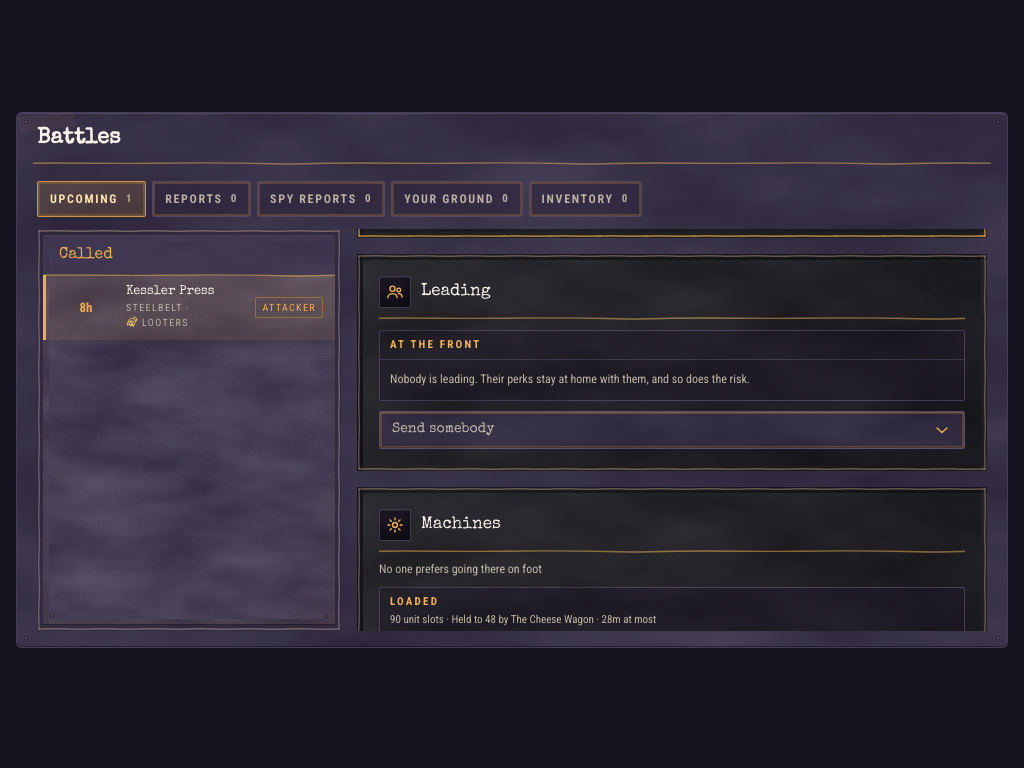
the officer picker › quotes each officer their own road beside their sheet
The image size is (1024, 768).
(page scrolled)
Click the dropdown with test id "lead-officer-picker".
click(443, 429)  # box [379,411,965,449]
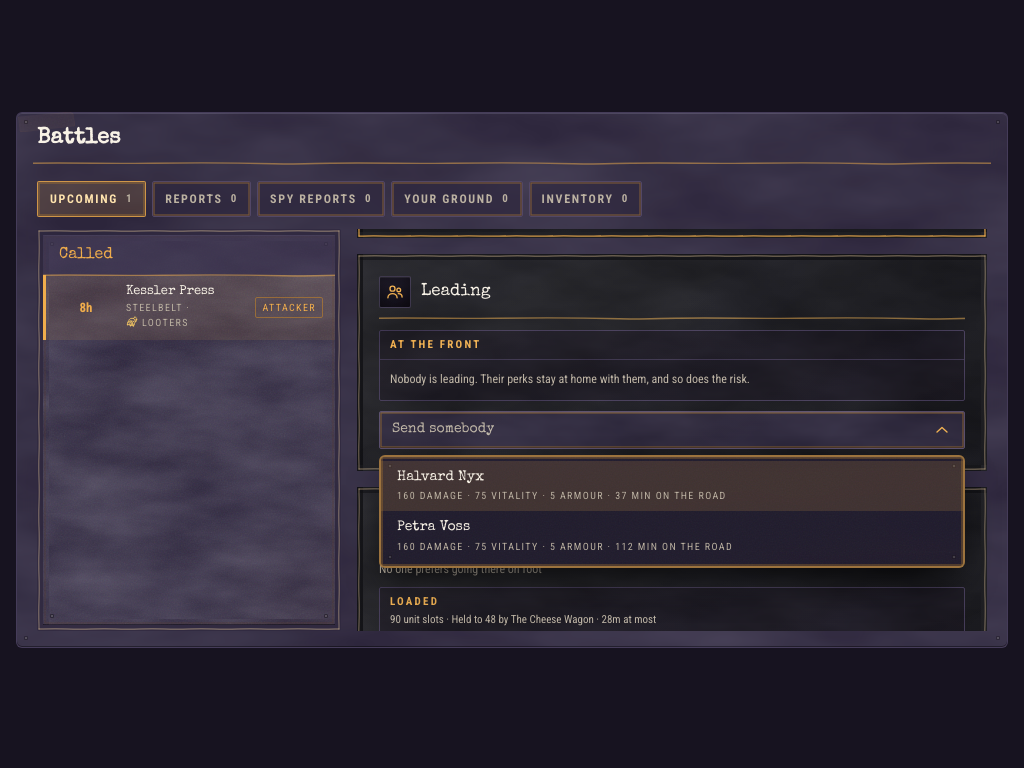
Expected: the option that starts with "Halvard Nyx" does not show "112 min", [381,461,963,511]
Expected: the option that starts with "Halvard Nyx" shows "37 min on the road", [381,461,963,511]
Expected: the option that starts with "Petra Voss" shows "112 min on the road", [397,520,733,552]
